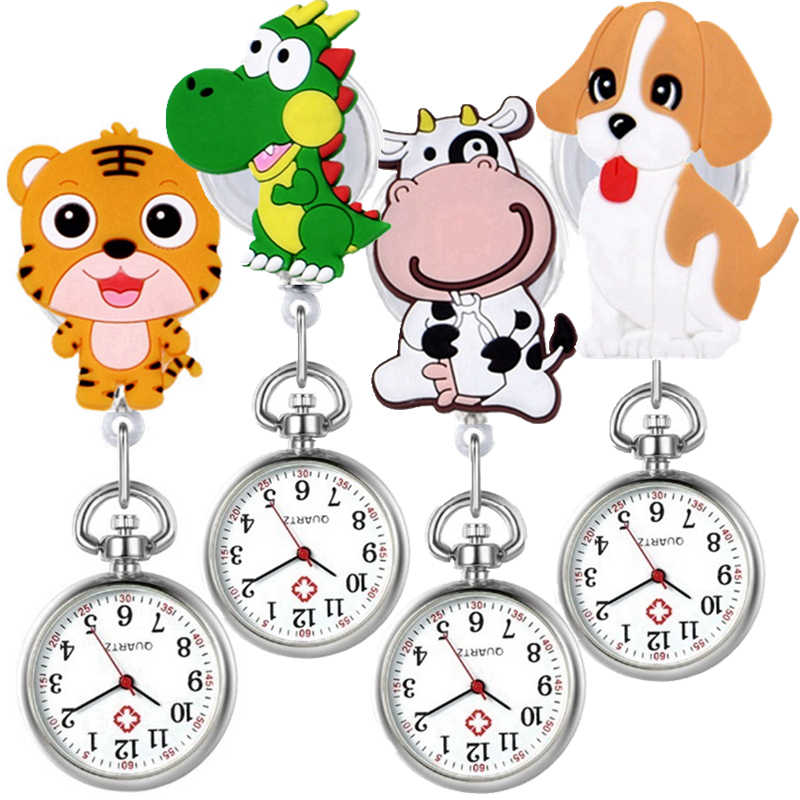Tigrew: (14, 115, 226, 438)
